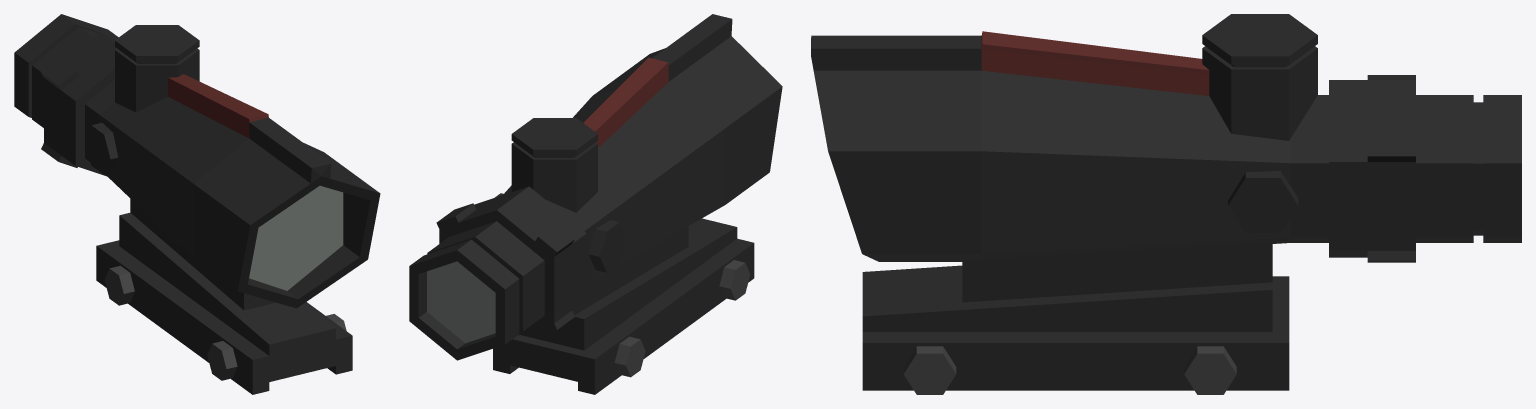
File: Optic_C.fbx
The picture shows the model from 3 angles, left to right: view 1: azimuth 30°, elevation 25°; view 2: azimuth 150°, elevation 25°; view 3: azimuth 270°, elevation 25°; orthographic projection. The views are drawn at different scales.
Visible parts, largest first — view 1: Optic_C; view 2: Optic_C; view 3: Optic_C.
Boxes of the visible parts, <box> form: Optic_C: <box>14,14,380,394</box>; Optic_C: <box>409,14,782,394</box>; Optic_C: <box>811,14,1521,394</box>.
Bounding box in the file's own units: 0.2344 × 0.4056 × 0.8108.
